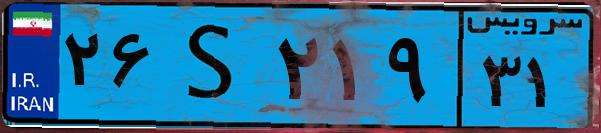1: (330, 28, 385, 110), (525, 38, 570, 115)
2: (270, 28, 330, 110), (57, 26, 110, 100)
3: (475, 38, 525, 113)
6: (110, 28, 158, 98)
9: (385, 28, 445, 110)
S: (158, 12, 270, 120)
